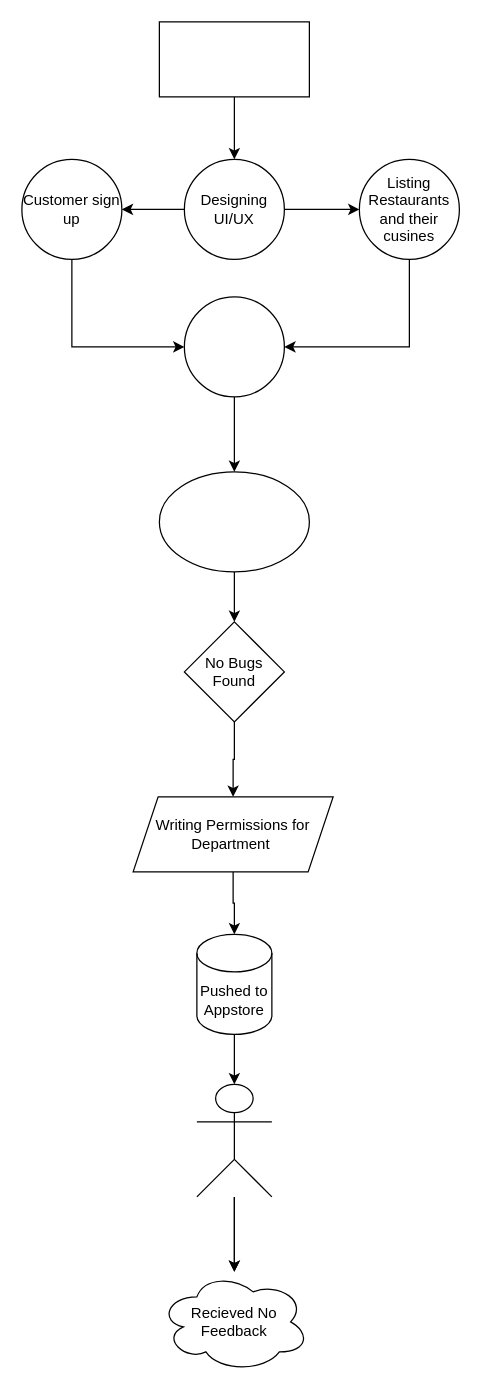
Image size: 481x1394. Some labels were removed from this diagram. Here are the shapes that lost their labels. From the top down, the centre of each, then its label:
At point (233, 59): "ZK Eats".
At point (233, 346): "Checkout Page & RTS".
At point (233, 521): "Compiling to Apk".
At point (234, 1140): "Customer Using Application".
